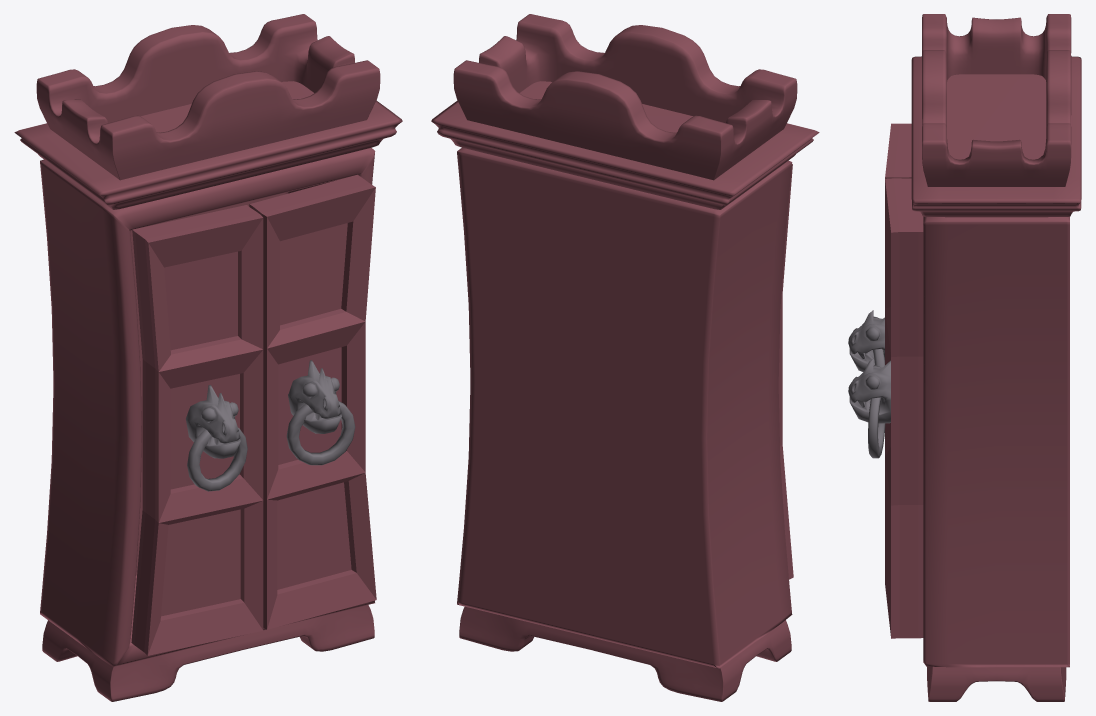
File: WardrobeAsset.fbx
The picture shows the model from 3 angles, left to right: view 1: azimuth 30°, elevation 25°; view 2: azimuth 150°, elevation 25°; view 3: azimuth 270°, elevation 25°; orthographic projection.
Parts seen in each view (by area): view 1: Wardrobe.005, WardrobeDoorRight.004, WardrobeDoorLeft.003; view 2: Wardrobe.005, WardrobeDoorRight.004; view 3: Wardrobe.005, WardrobeDoorLeft.003, WardrobeDoorRight.004.
Boxes of the visible parts, left/top/right/bottom form: Wardrobe.005: left=14, top=14, right=402, bottom=701; WardrobeDoorRight.004: left=131, top=205, right=263, bottom=655; WardrobeDoorLeft.003: left=249, top=174, right=376, bottom=629; Wardrobe.005: left=431, top=14, right=819, bottom=701; WardrobeDoorRight.004: left=778, top=164, right=793, bottom=579; Wardrobe.005: left=911, top=14, right=1081, bottom=701; WardrobeDoorLeft.003: left=848, top=178, right=923, bottom=638; WardrobeDoorRight.004: left=848, top=123, right=911, bottom=371.
Bounding box in the file's own units: 116 × 78.1 × 215.
